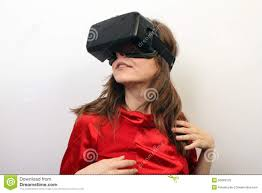oculus: (85, 10, 164, 63)
